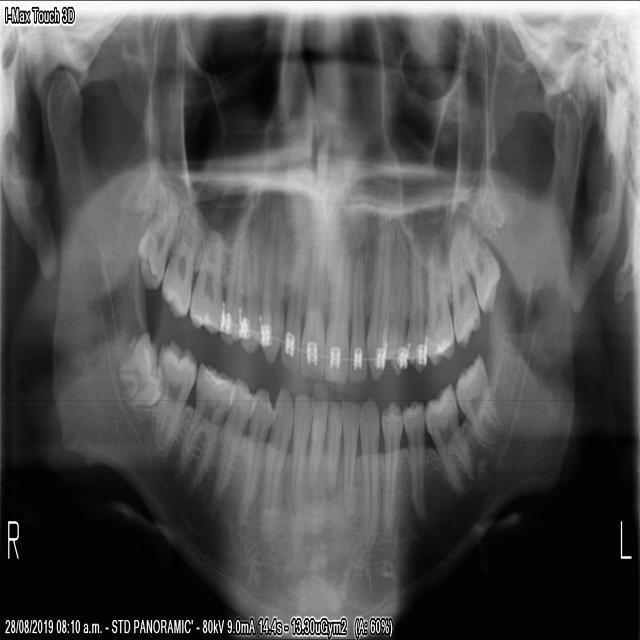LCD: (356, 393, 378, 551)
LCU: (363, 220, 390, 381)
LID: (339, 397, 358, 514), (324, 398, 341, 497)
LIU: (321, 233, 350, 385), (346, 245, 364, 382)
LMD: (420, 380, 473, 495), (451, 348, 502, 444)
LMU: (419, 236, 453, 366), (445, 233, 479, 350), (459, 218, 499, 313)
LPMD: (399, 395, 426, 527), (377, 398, 401, 532)
LPMU: (377, 224, 408, 376), (400, 235, 426, 374)
RCD: (258, 383, 292, 526)
RCU: (257, 193, 283, 365)
RID: (287, 388, 312, 515), (303, 396, 327, 500)
RIU: (296, 233, 324, 379), (277, 243, 303, 374)
RMD: (177, 359, 235, 478), (149, 333, 195, 450), (114, 328, 162, 406)
RMU: (157, 203, 195, 318), (133, 194, 175, 292), (186, 225, 222, 335)
RPMD: (207, 374, 257, 500), (238, 381, 274, 506)
RPMU: (235, 201, 260, 355), (216, 210, 244, 346)
